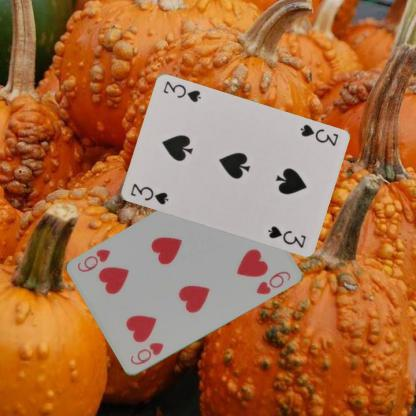3s: (297, 122, 339, 148), (128, 181, 169, 206)
6h: (127, 340, 165, 367)
